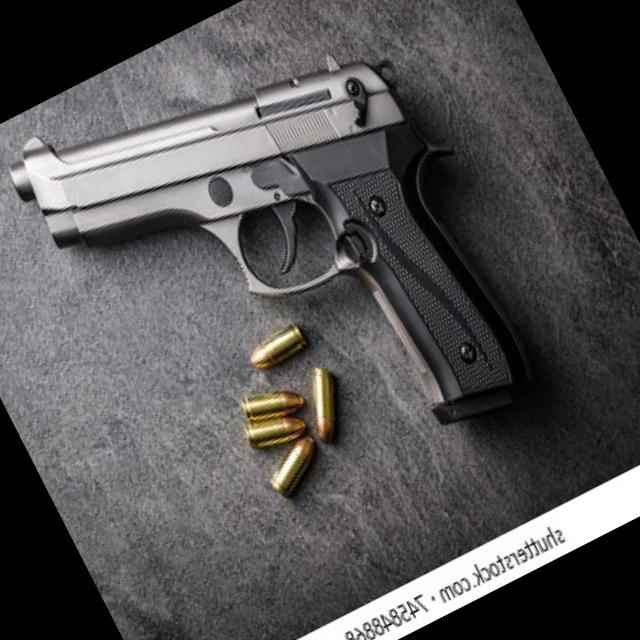Weapon: (0, 0, 569, 570)
